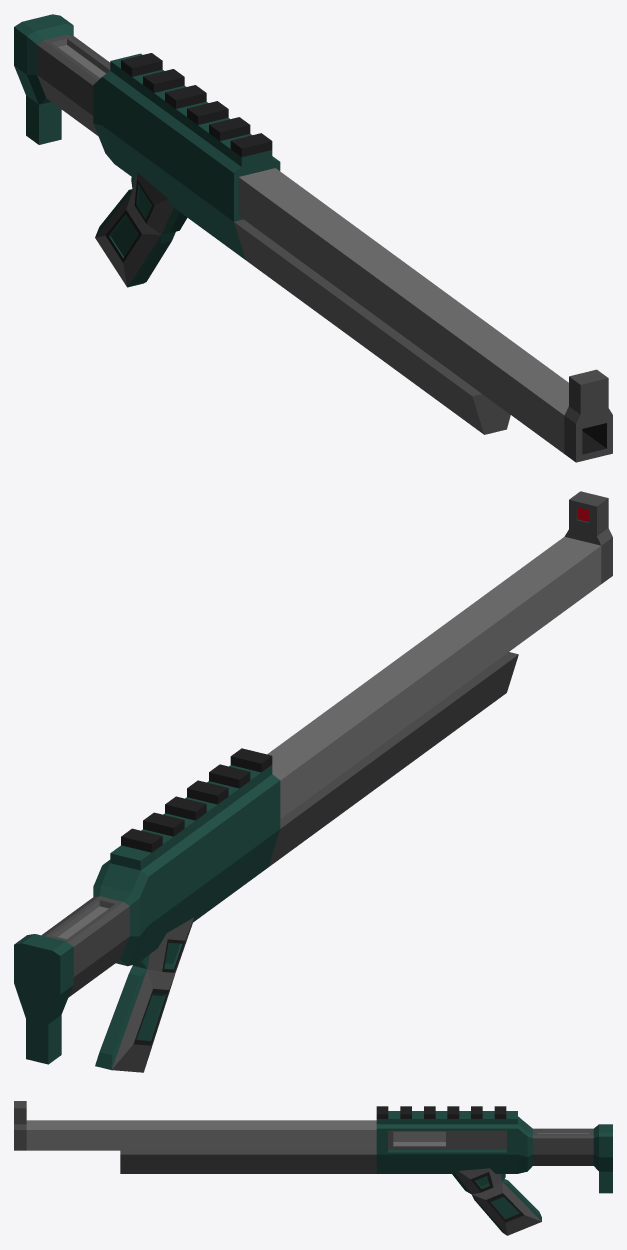
Rendered from Sed.fbx.
3 renders of one model, top to bottom at view 1: azimuth 30°, elevation 25°; view 2: azimuth 150°, elevation 25°; view 3: azimuth 270°, elevation 25°, orthographic. The views are drawn at different scales.
Parts seen in each view (by area): view 1: Cube, Cube.001; view 2: Cube, Cube.001; view 3: Cube, Cube.001.
Part boxes in pixels (<box>): Cube: <box>14,14,612,462</box>; Cube.001: <box>95,172,187,287</box>; Cube: <box>14,491,612,1064</box>; Cube.001: <box>95,917,193,1072</box>; Cube: <box>14,1101,612,1193</box>; Cube.001: <box>452,1168,541,1235</box>.
Bounding box in the file's own units: 48.68 × 240 × 1011.
